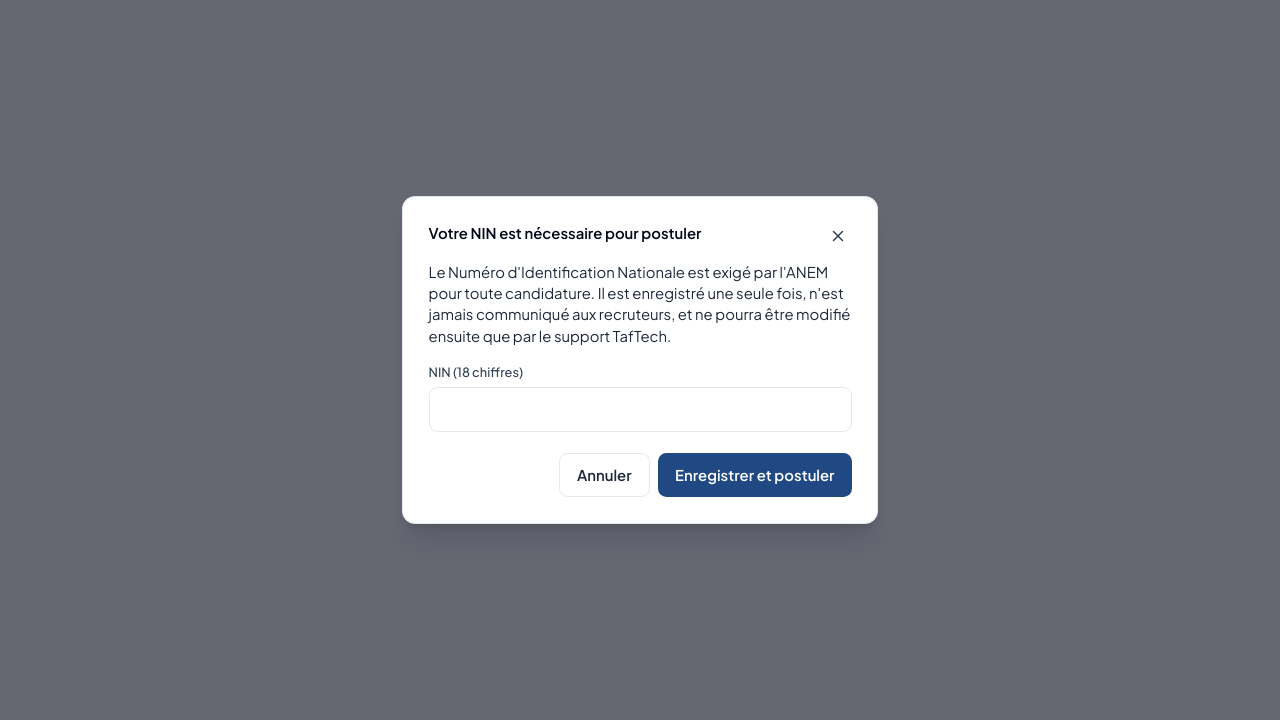
Test case: ModalNIN › affiche le message générique du serveur sous le champ quand le NIN n'est pas enregistrable
This screenshot has width=1280, height=720.
In the field labelled "NIN (18 chiffres)": (640, 409) top-left (428, 387), bottom-right (852, 432), type "109876543210987654"
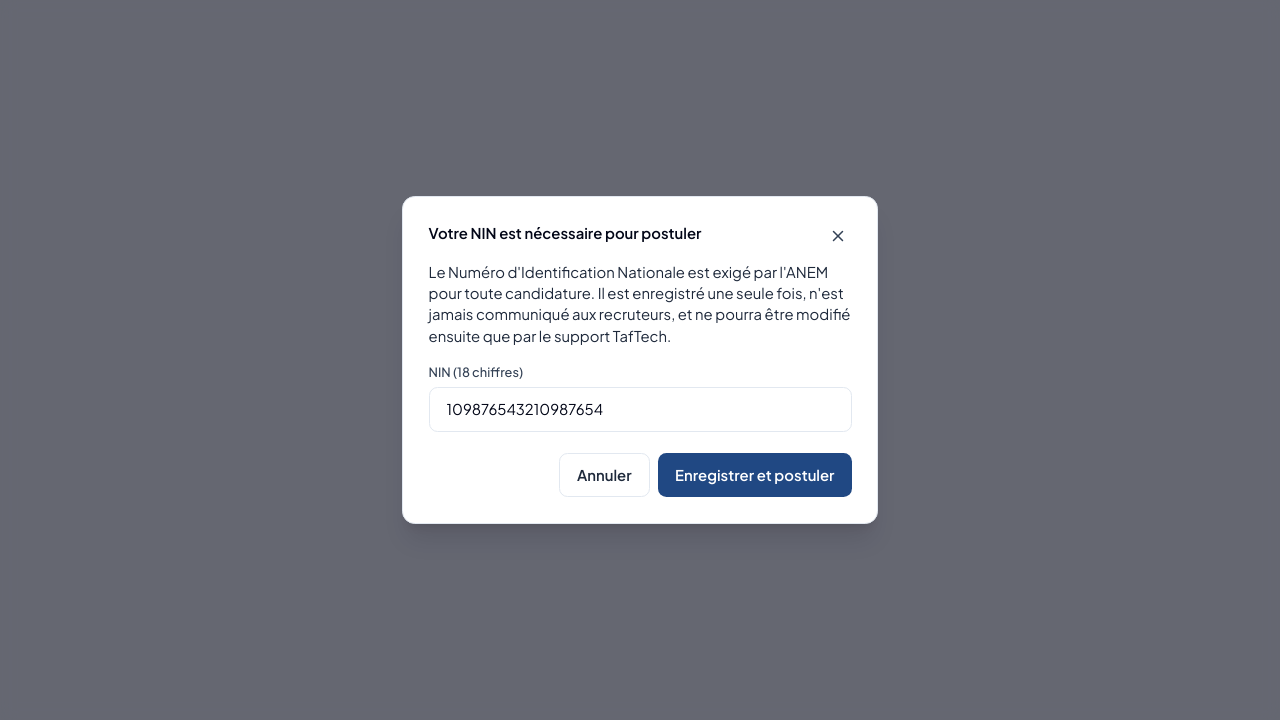
Click the button "Enregistrer et postuler": (755, 475) top-left (658, 453), bottom-right (852, 497)
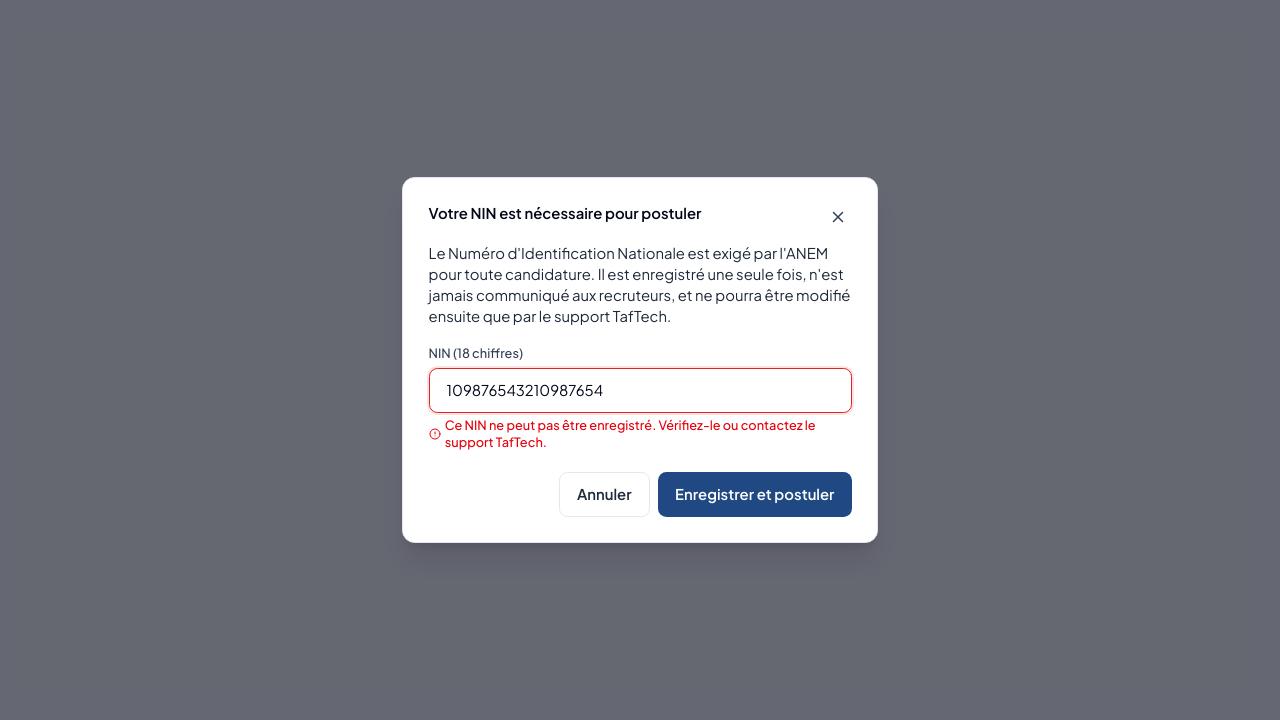
expect the text "ne peut pas être enregistré" is shown: met, box top-left (445, 417), bottom-right (816, 450)
